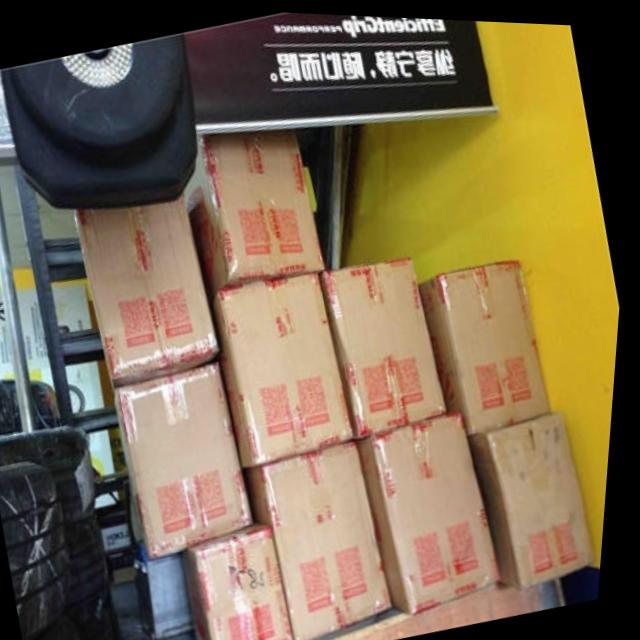box: (254, 436, 398, 640), (212, 267, 359, 465), (362, 410, 508, 609), (76, 193, 222, 386), (120, 361, 261, 556), (324, 251, 453, 436), (423, 253, 555, 431), (185, 126, 327, 291), (475, 404, 604, 582), (187, 522, 303, 640)
